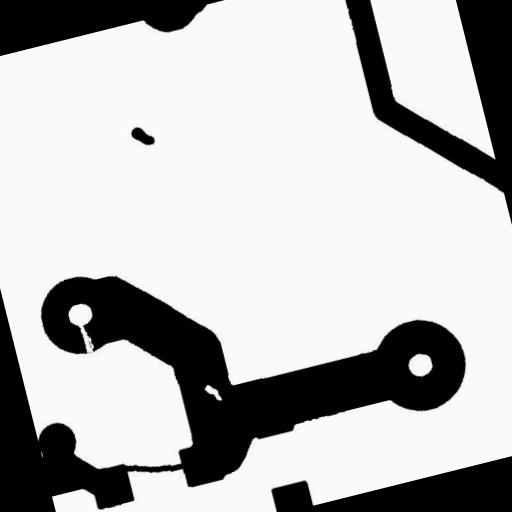copper: (121, 114, 164, 158)
open: (66, 310, 104, 365)
pin-hole: (194, 373, 232, 413)
short: (112, 442, 194, 492)
